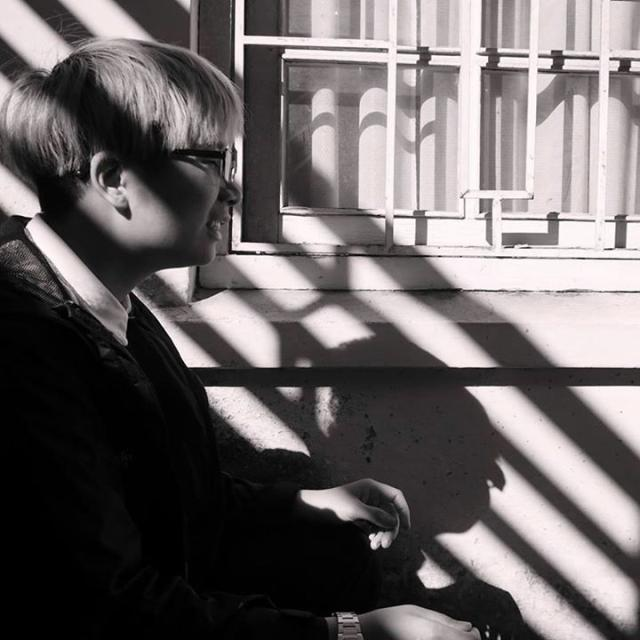adult: (0, 37, 420, 640)
